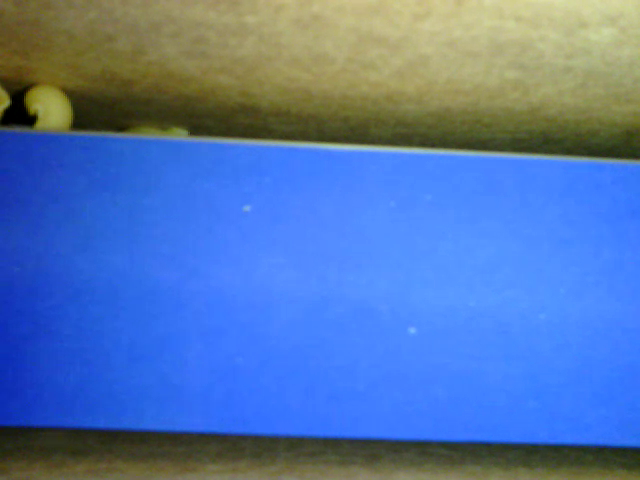shell: (24, 81, 75, 132)
